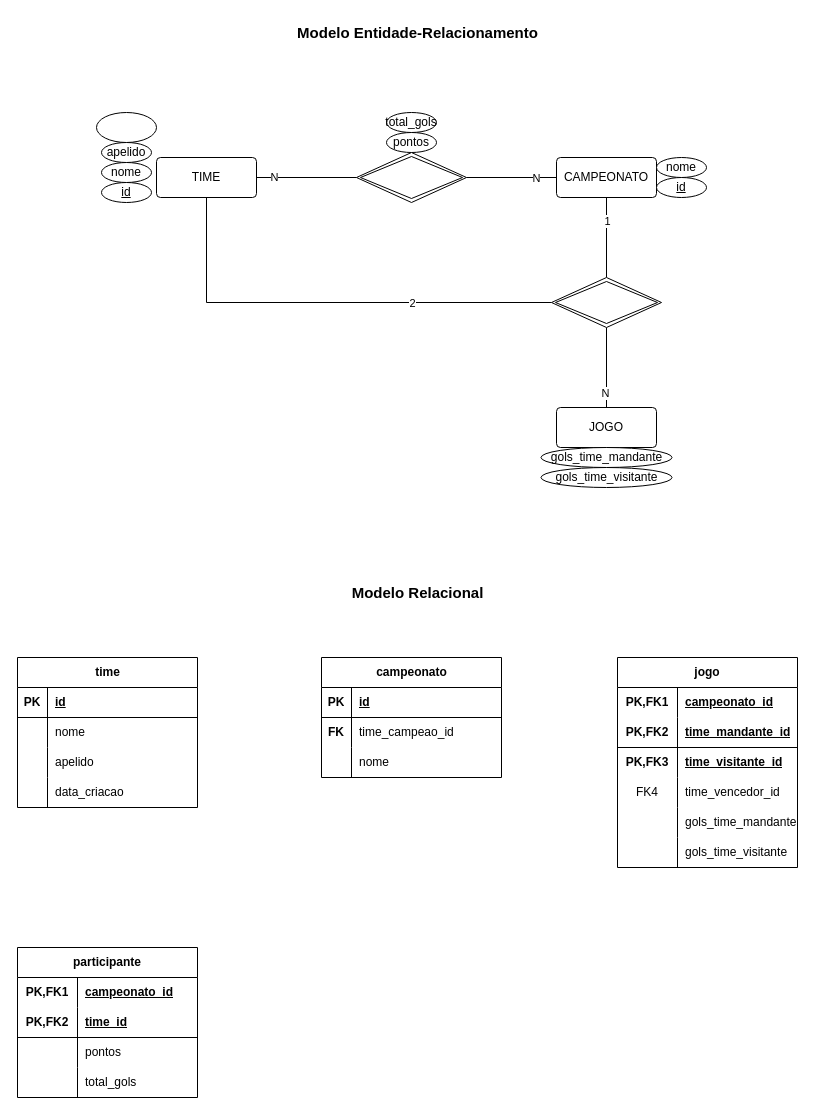
Image size: 815x1115. Some labels were removed from this diagram. The shapes that lost their labels are listed below. From the top down, each one's centre as x and y in pixels, then its label:
point 126,127: data de criação
point 411,177: PARTICIPA
point 606,302: TEM
